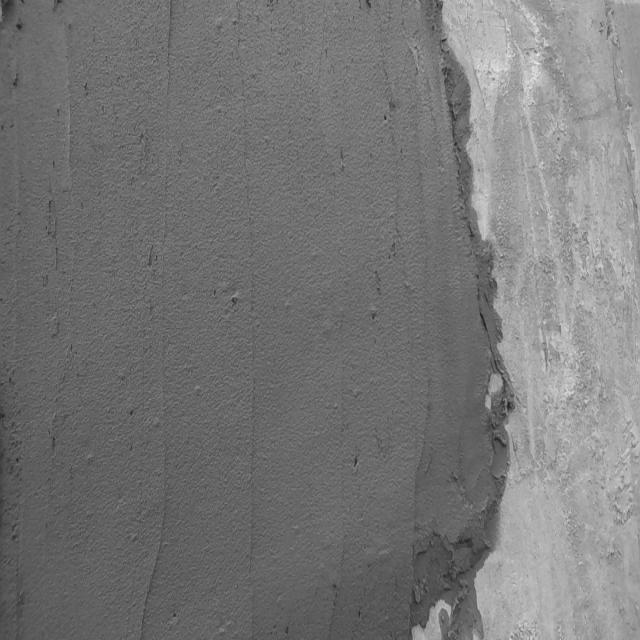trowels marks: (238, 108, 262, 580), (139, 446, 171, 640), (162, 1, 176, 110)
